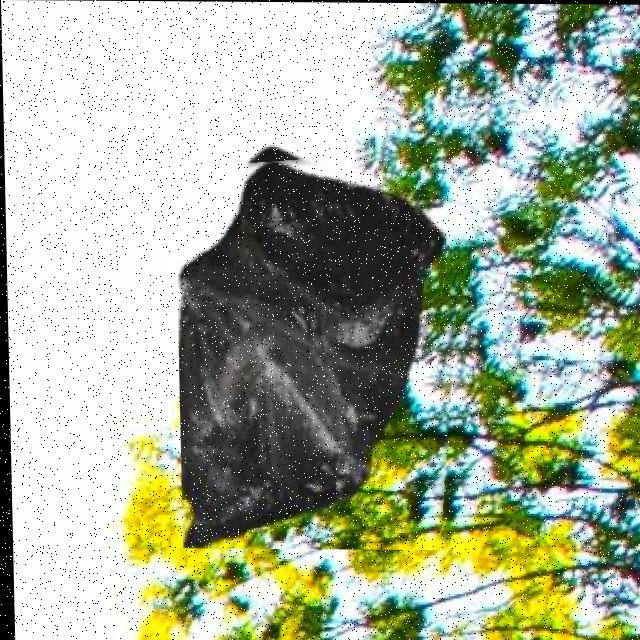plasticcover: (173, 146, 473, 550)
